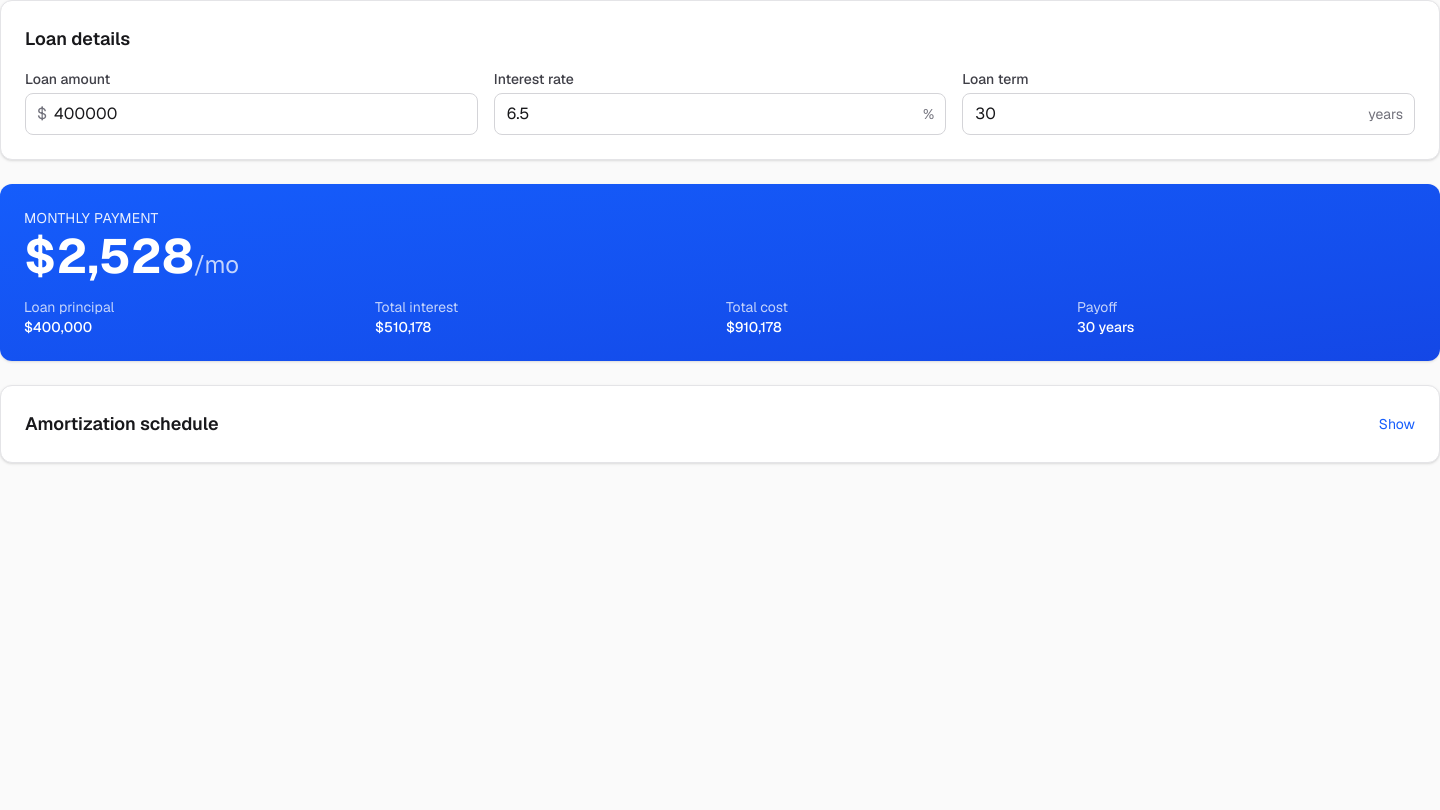
Scenario: MortgageCalculator › amortization table displays a row for each month of the term
The image size is (1440, 810).
Click the button "Amortization schedule Show".
click(122, 424)  # box [25,410,1415,438]
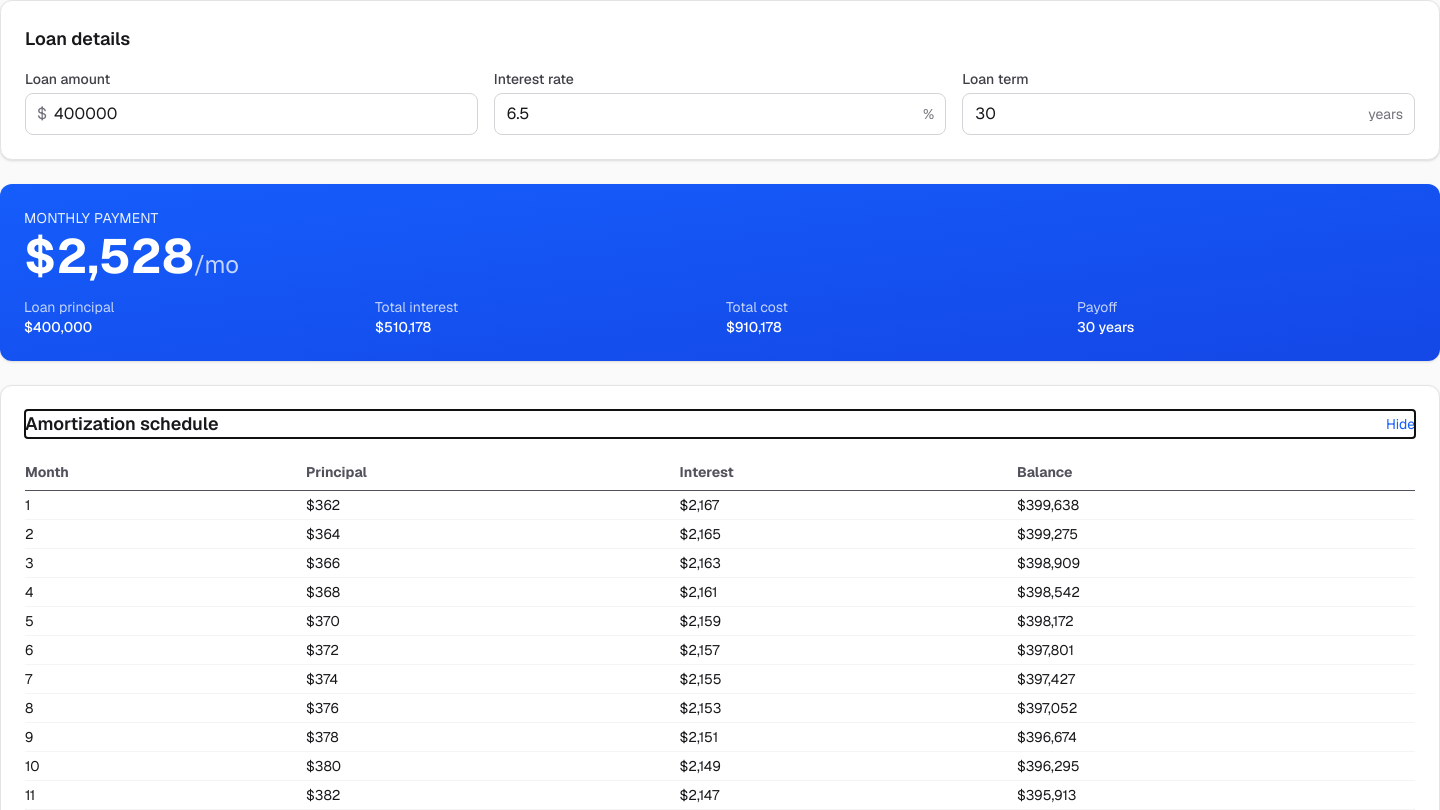
Expected: the number of rows is 361
